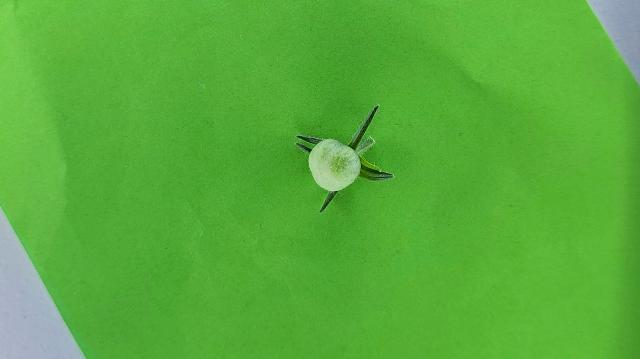Fruit Maturation: (307, 138, 362, 192)
